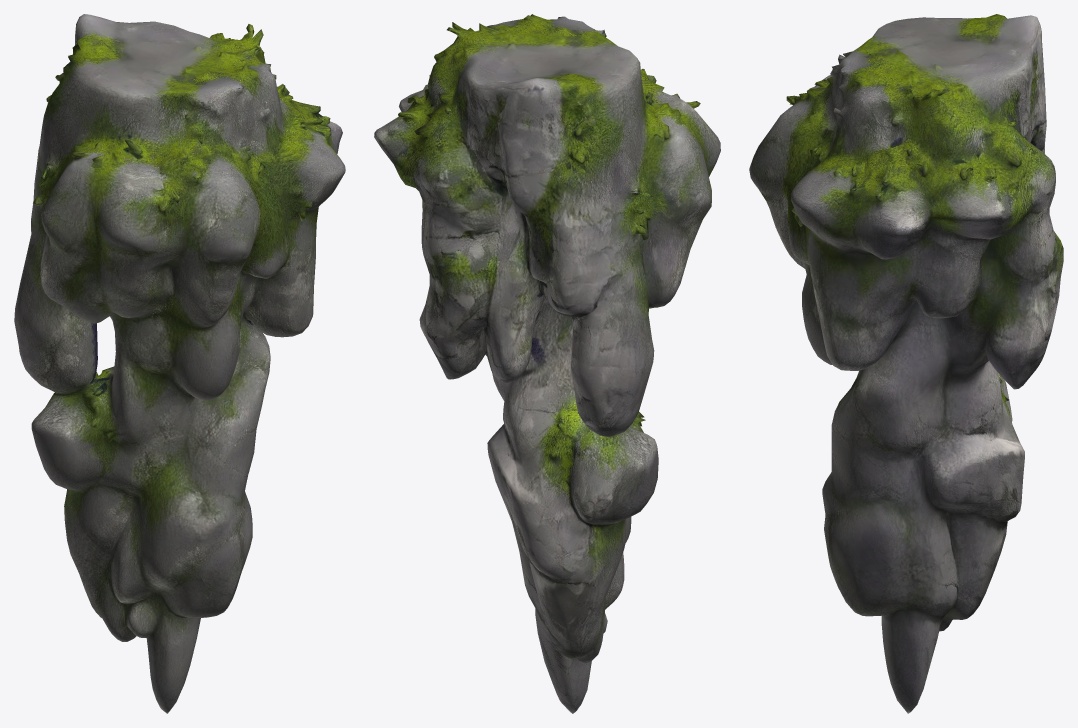
Rendered from Mossy_Monolith.glb.
3 views of the same model, side by side, from view 1: azimuth 30°, elevation 25°; view 2: azimuth 150°, elevation 25°; view 3: azimuth 270°, elevation 25° (orthographic). The views are drawn at different scales.
Parts seen in each view (by area): view 1: Mossy_Monolith; view 2: Mossy_Monolith; view 3: Mossy_Monolith.
Part boxes in pixels (x1,y1,x2,y2): Mossy_Monolith: (14, 14, 345, 713); Mossy_Monolith: (374, 14, 720, 713); Mossy_Monolith: (749, 14, 1063, 713).
Bounding box in the file's own units: 0.8964 × 1.9 × 0.7905.
Materials: 1 (1 with a texture image).
